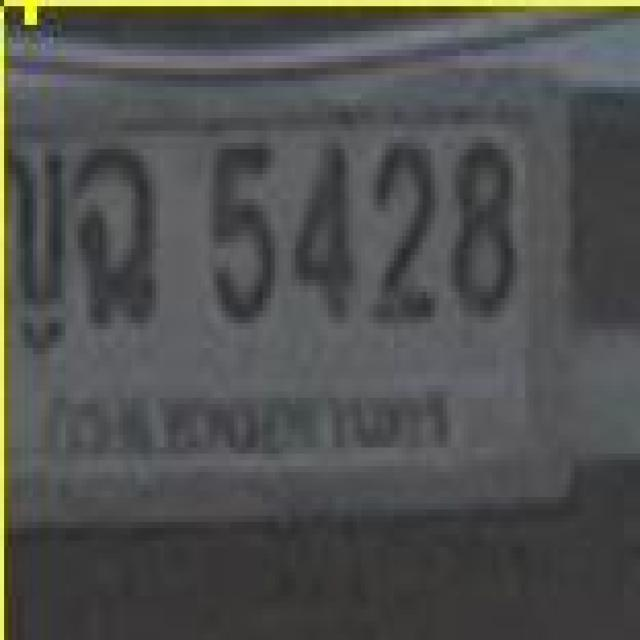license_plate: (9, 88, 576, 521)
